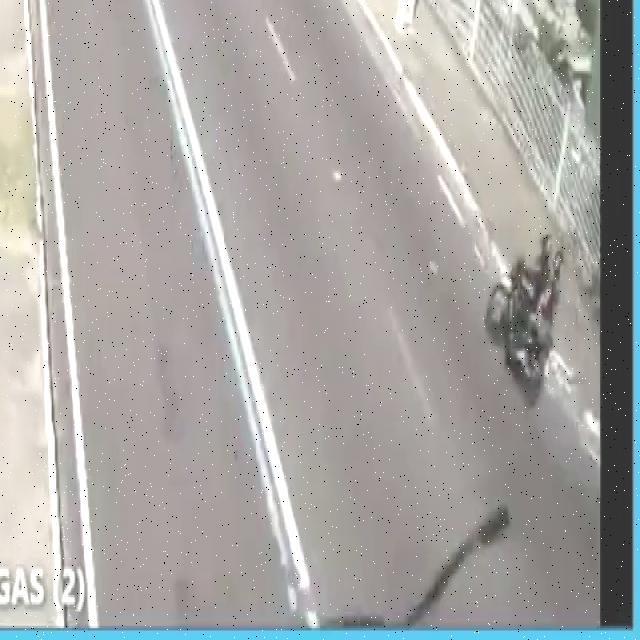biker: (486, 221, 570, 400)
